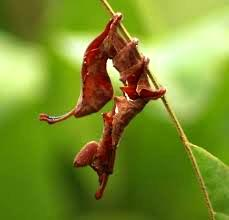Caterpillar: (39, 15, 178, 190)
